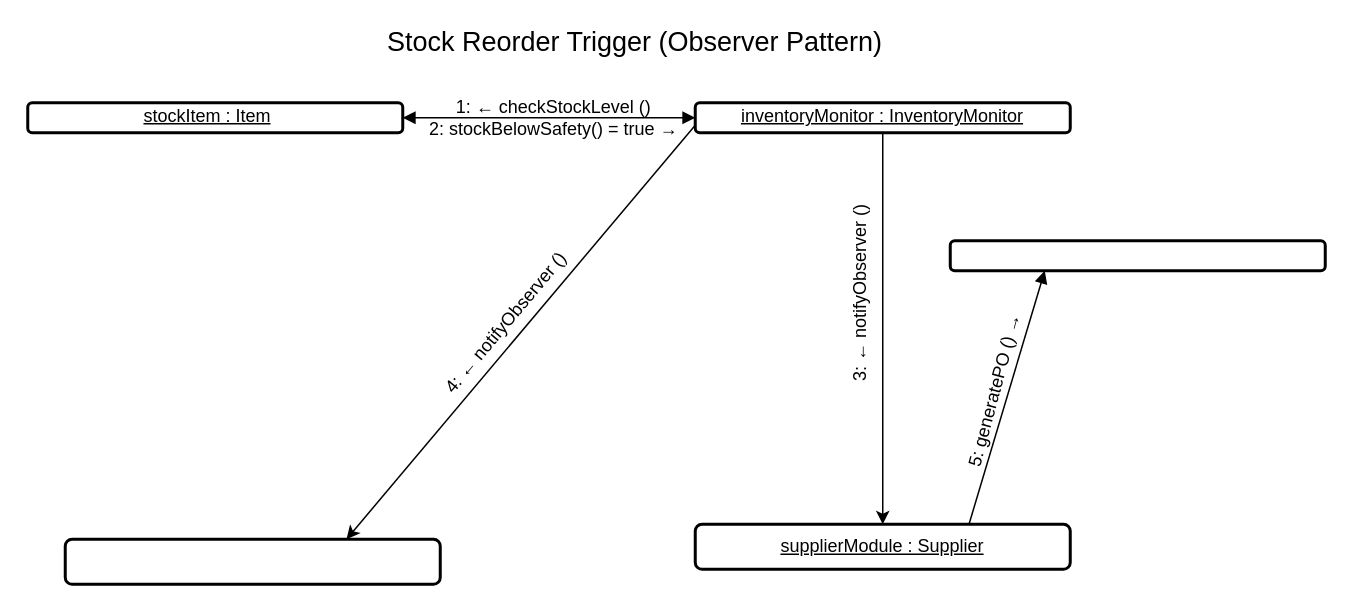
Image size: 1358x611. Some labels were removed from this diagram. Here are the shapes that lost their labels. From the top down, the centre of each, then its label:
the point at 1137,255: purchaseOrder : PurchaseOrder
the point at 252,561: managerAlert : Manager
